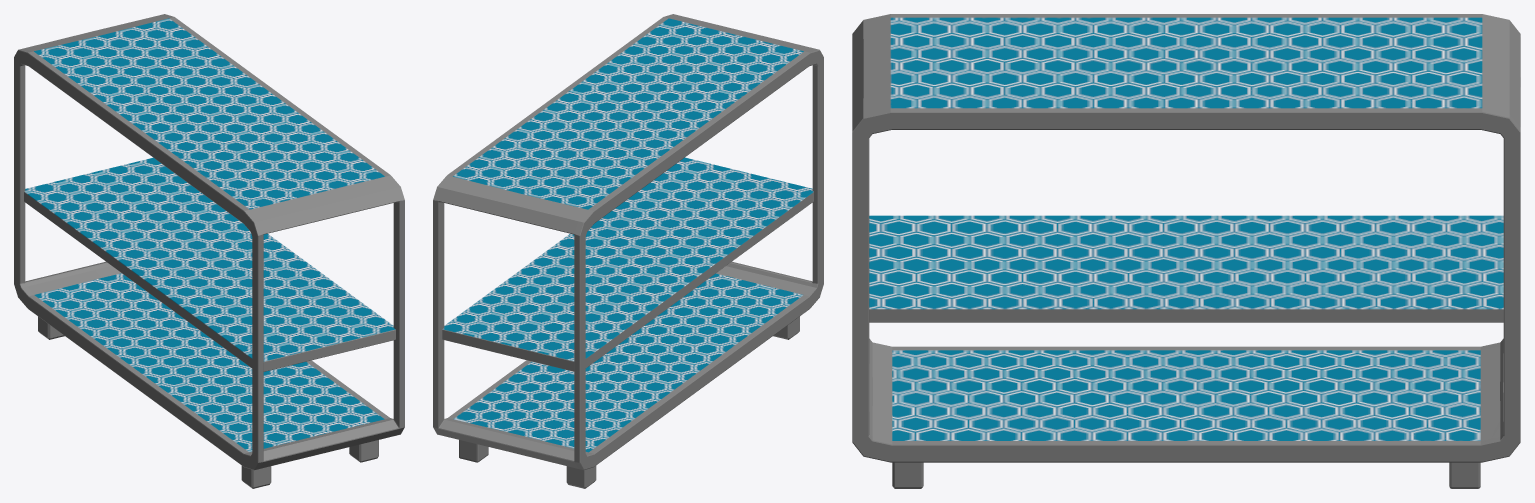
Rendered from SM_Wardrobe.fbx.
The picture shows the model from 3 angles, left to right: view 1: azimuth 30°, elevation 25°; view 2: azimuth 150°, elevation 25°; view 3: azimuth 270°, elevation 25°; orthographic projection. The views are drawn at different scales.
Parts seen in each view (by area): view 1: SM_Wardrobe; view 2: SM_Wardrobe; view 3: SM_Wardrobe.
Part boxes in pixels (x1,y1,x2,y2): SM_Wardrobe: (14,14,404,488); SM_Wardrobe: (433,14,823,488); SM_Wardrobe: (852,14,1520,488).
Size of the model in its own units: 43.33 by 125 by 79.16.
1 material, 1 textured.
